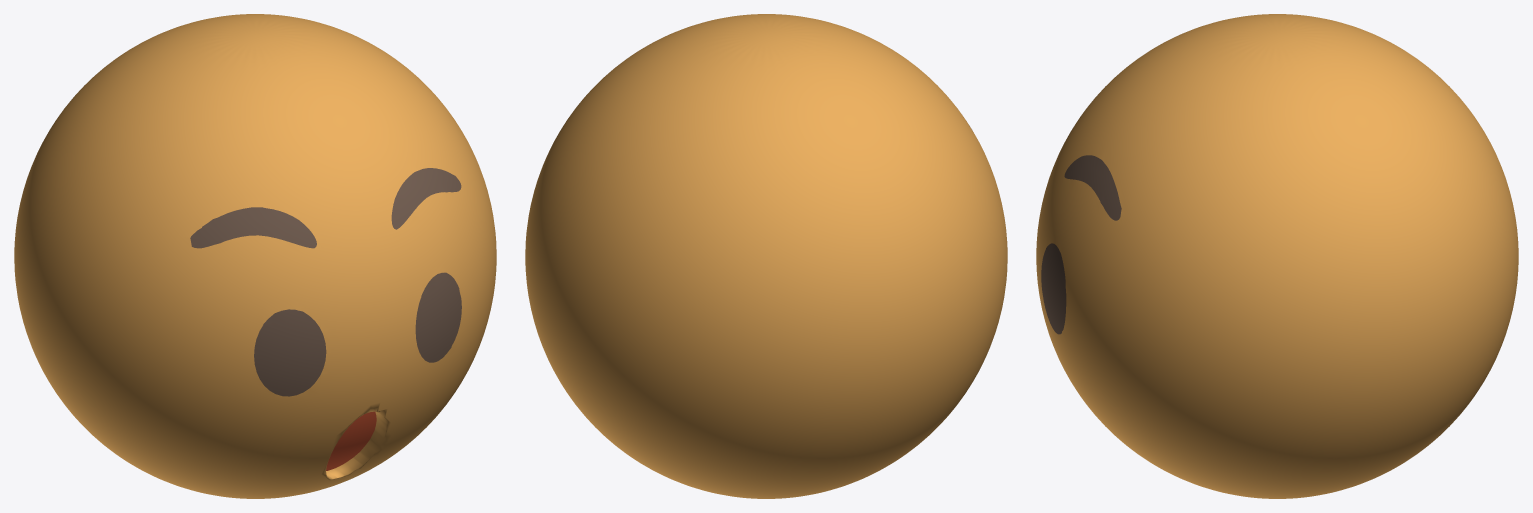
Rendered from surprised.fbx.
The picture shows the model from 3 angles, left to right: view 1: azimuth 30°, elevation 25°; view 2: azimuth 150°, elevation 25°; view 3: azimuth 270°, elevation 25°; orthographic projection.
Visible parts, largest first — view 1: Sphere.008; view 2: Sphere.008; view 3: Sphere.008.
Part boxes in pixels (left/top/right/bottom): Sphere.008: left=14, top=14, right=496, bottom=498; Sphere.008: left=525, top=14, right=1007, bottom=498; Sphere.008: left=1036, top=14, right=1518, bottom=498.
Bounding box in the file's own units: 197 × 200 × 197.
